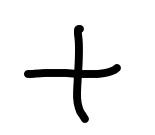plus: (25, 24, 121, 123)
